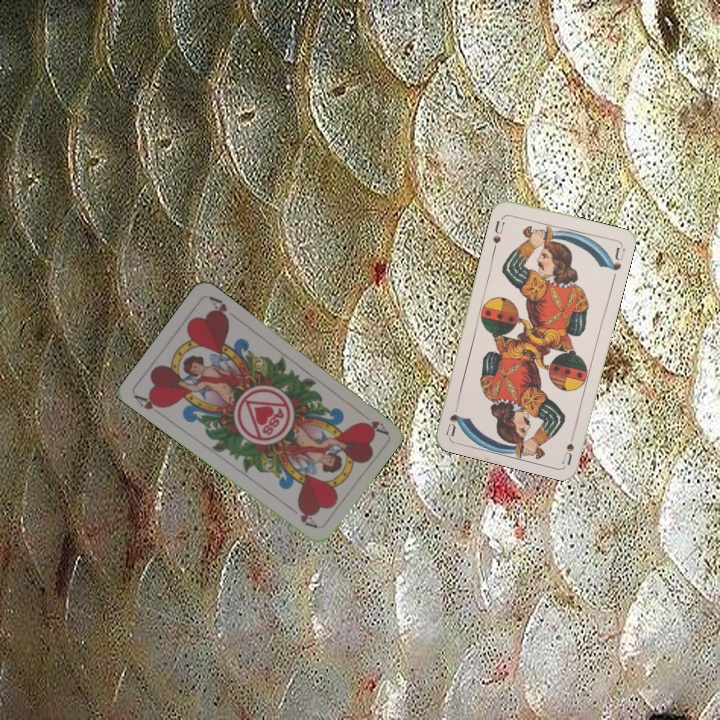HA: (354, 407, 390, 437), (130, 391, 168, 419)
SU: (558, 425, 578, 466), (489, 216, 507, 246)
